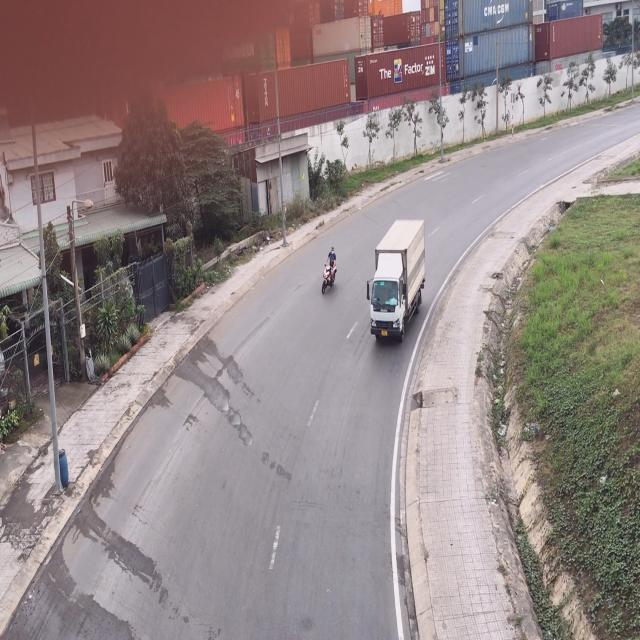motorbike: (322, 249, 340, 300)
truck: (365, 213, 422, 341)
